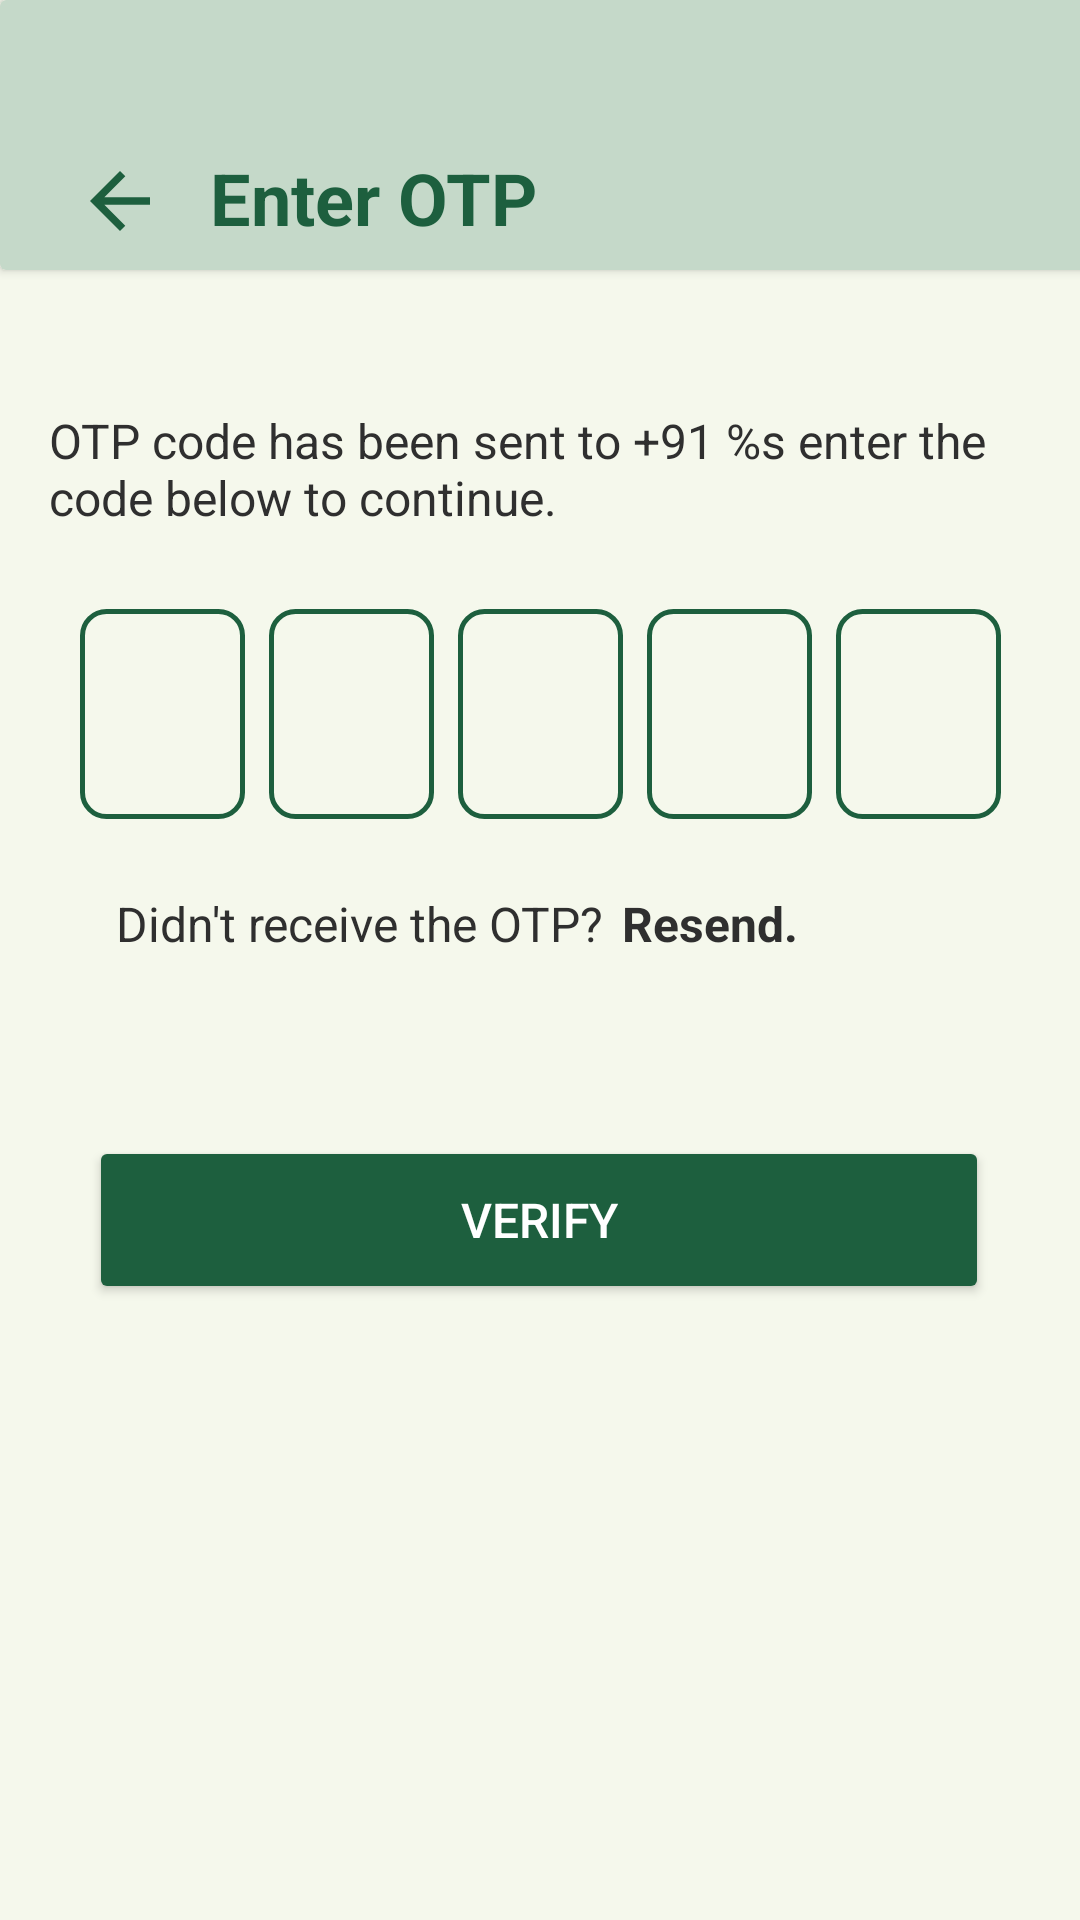

Icon bounding boxes for this 1080×1920 phone screenshot, format (x1, y1, x2, y2):
arrow back: (90, 171, 150, 231)
